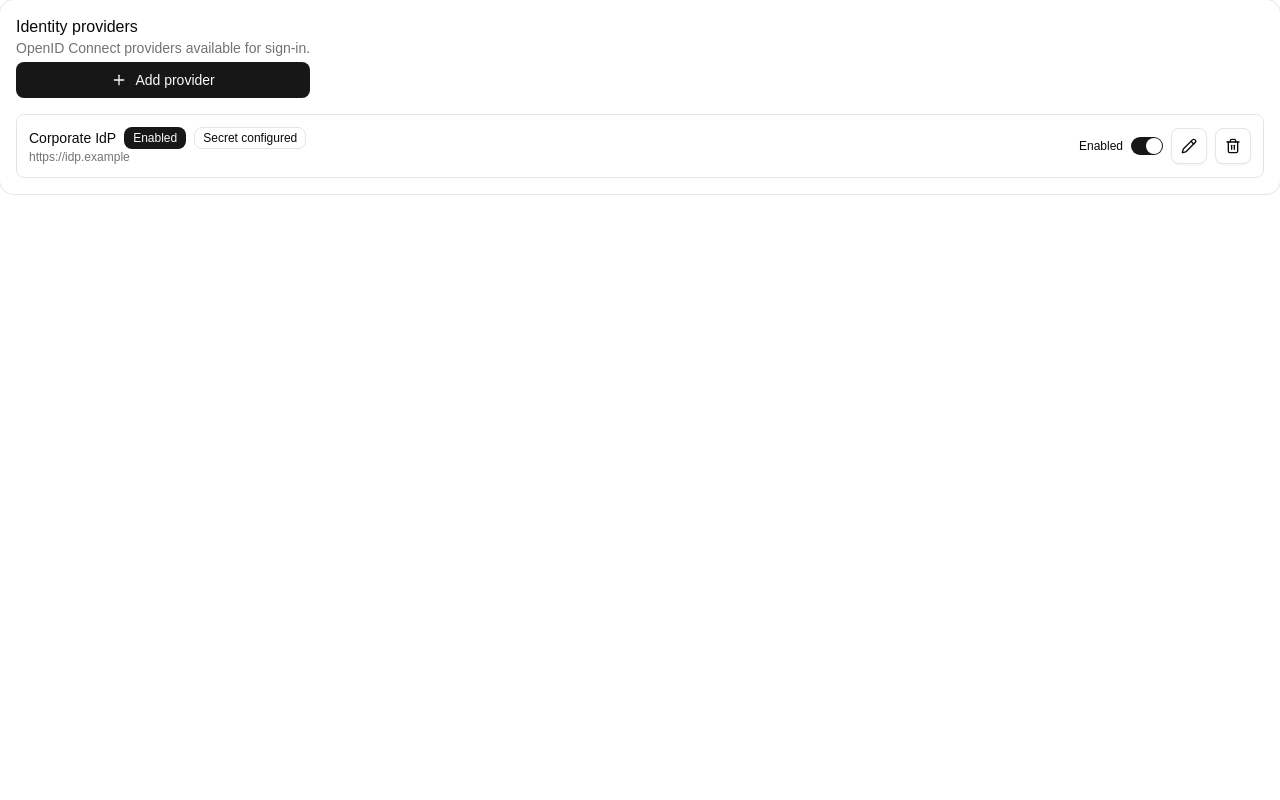
OIDC providers panel › opens the edit dialog with provider values
This screenshot has width=1280, height=800.
Click the button named "Edit provider" at (1189, 146), box [1171,128,1207,164]
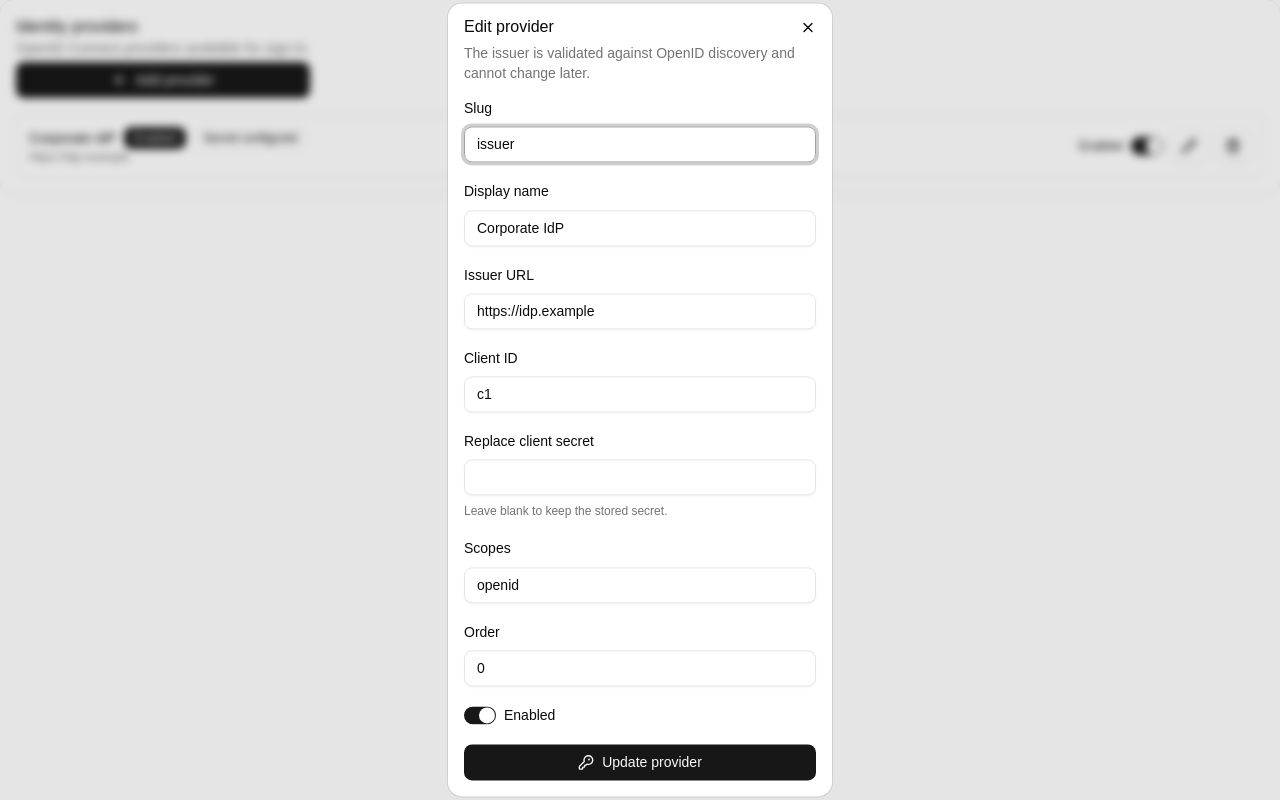
Check: the field labelled "Slug" holds "issuer", box [464,127,816,163]
Check: the field labelled "Issuer URL" holds "https://idp.example", box [464,293,816,329]
